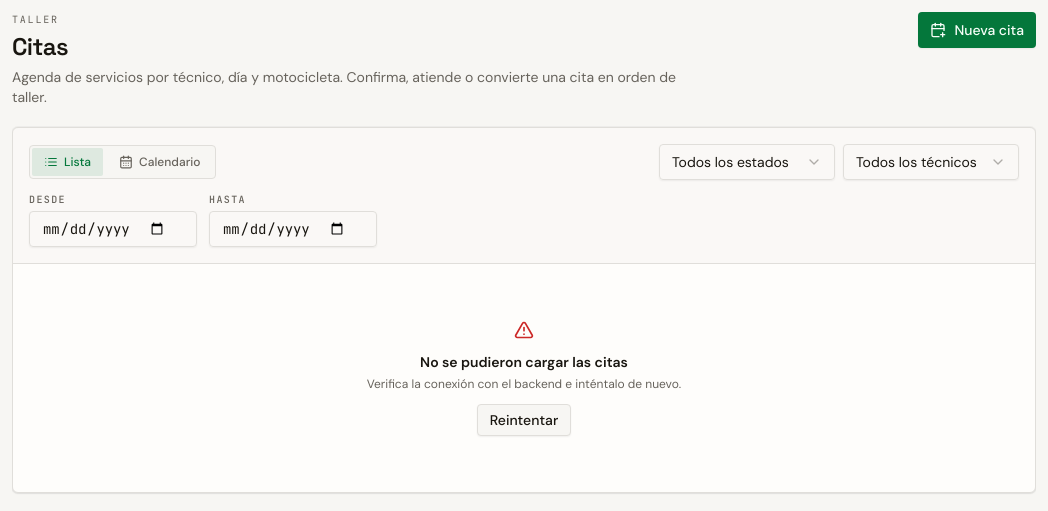
AppointmentsPage › renders the error state and retries on demand
Expected: the element with test id "appointments.error_state" is shown, [367, 320, 681, 436]
Click the button with test id "appointments.retry_button" at (524, 420), box [477, 404, 571, 436]
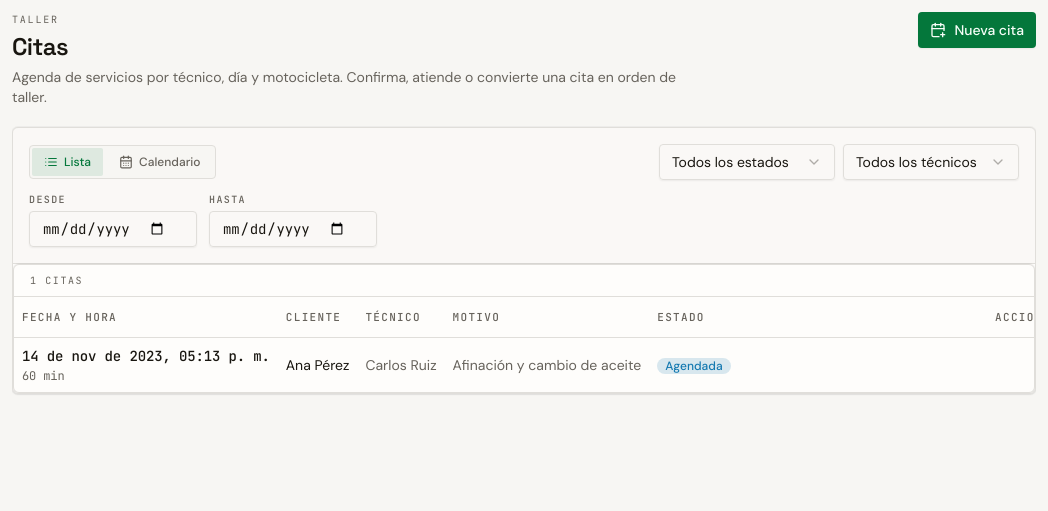
Now the text "Ana Pérez" is shown, box [286, 356, 349, 374]
